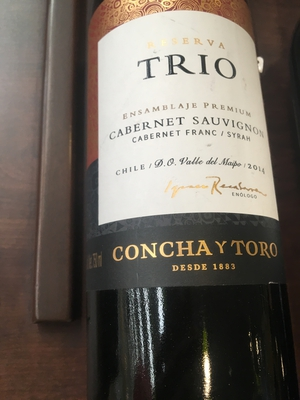trio cabernet sauvignon: (78, 4, 299, 400)
